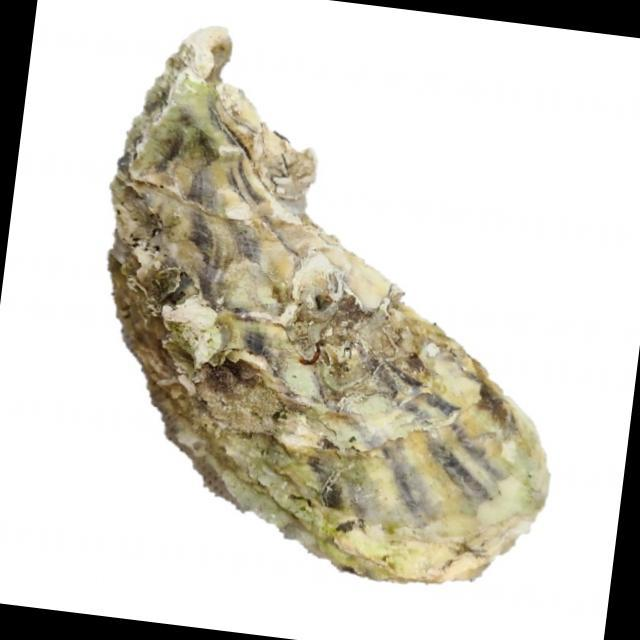Oyster- Indeterminate: (106, 26, 551, 587)
